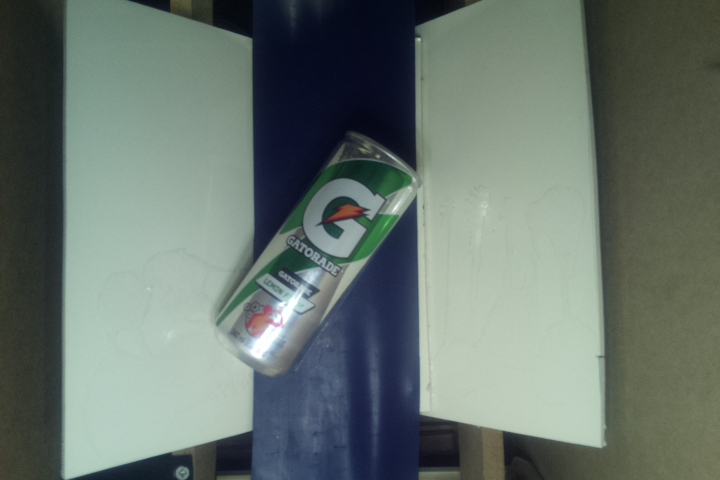can: (213, 129, 421, 379)
